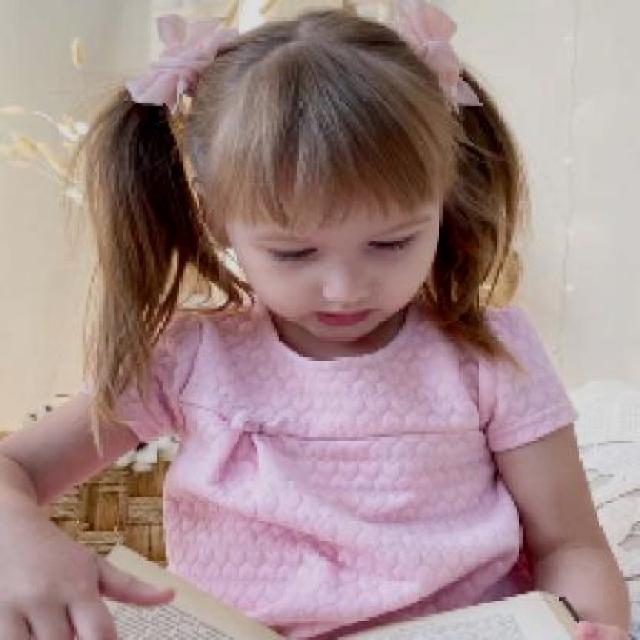child: (2, 5, 635, 638)
